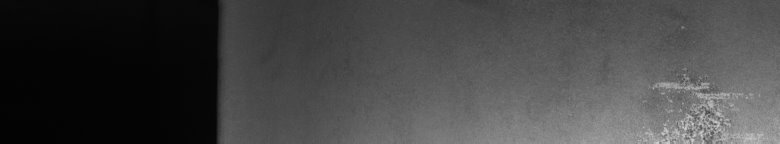hc: (645, 15, 763, 136)
